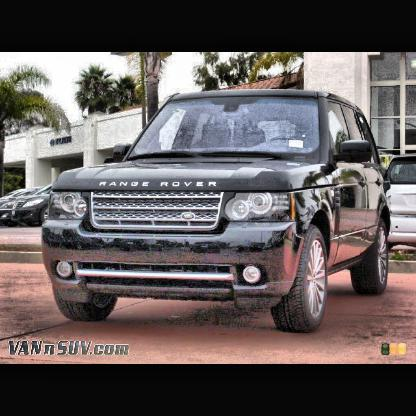Land Rover Range Rover SUV 2012: (40, 89, 391, 338)
